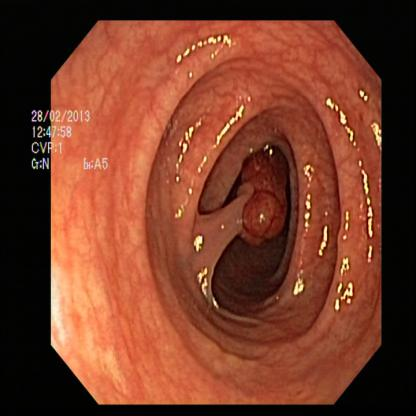Labels: (29, 95, 116, 190)
Polyps: (237, 150, 294, 261)
